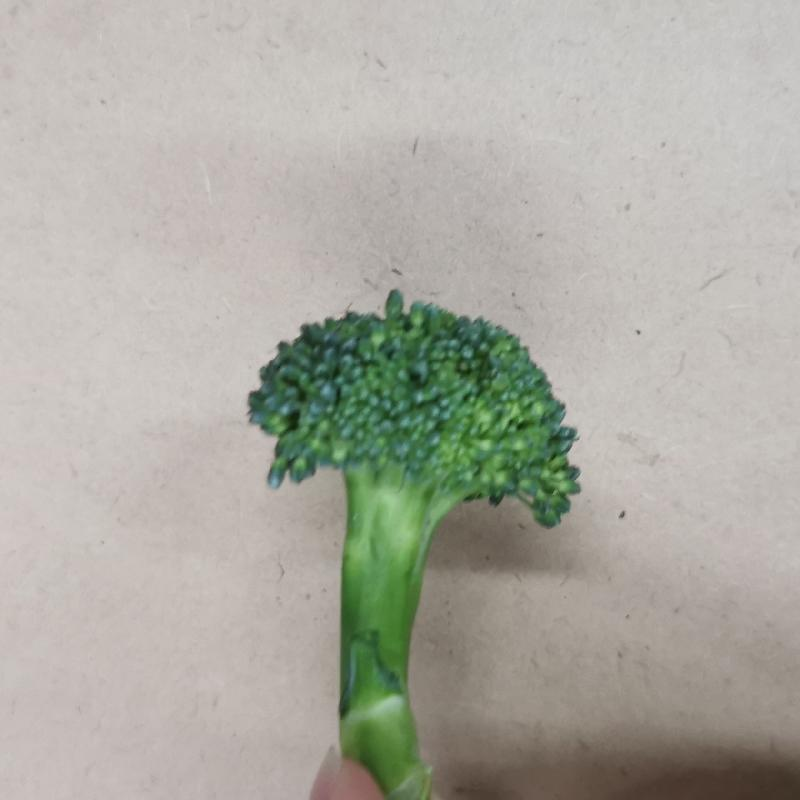broccoli: (232, 287, 590, 800)
